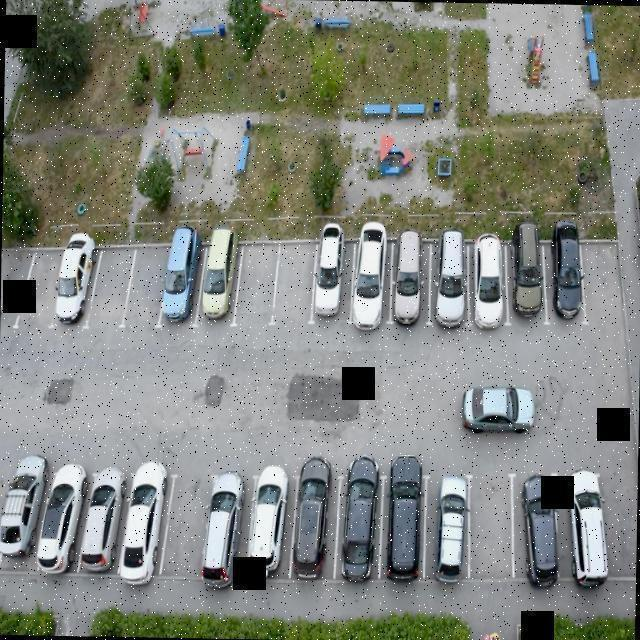Car: (560, 468, 610, 582), (294, 472, 341, 581), (511, 480, 563, 578), (211, 474, 253, 588), (422, 481, 471, 575), (337, 478, 379, 587), (85, 472, 126, 579), (382, 479, 425, 581), (45, 477, 88, 579), (254, 473, 293, 582), (312, 237, 356, 330), (4, 477, 44, 577), (160, 240, 203, 333), (54, 246, 97, 339), (126, 478, 166, 576), (544, 243, 587, 332), (350, 237, 392, 326), (390, 236, 431, 327), (199, 245, 241, 329), (507, 240, 545, 331), (430, 236, 466, 330), (469, 243, 505, 334)
Vacant: (467, 476, 514, 576), (166, 475, 209, 582), (17, 241, 64, 337), (128, 241, 170, 334), (234, 242, 279, 328), (90, 245, 135, 331), (274, 241, 316, 330), (0, 244, 28, 330), (0, 480, 8, 575)
